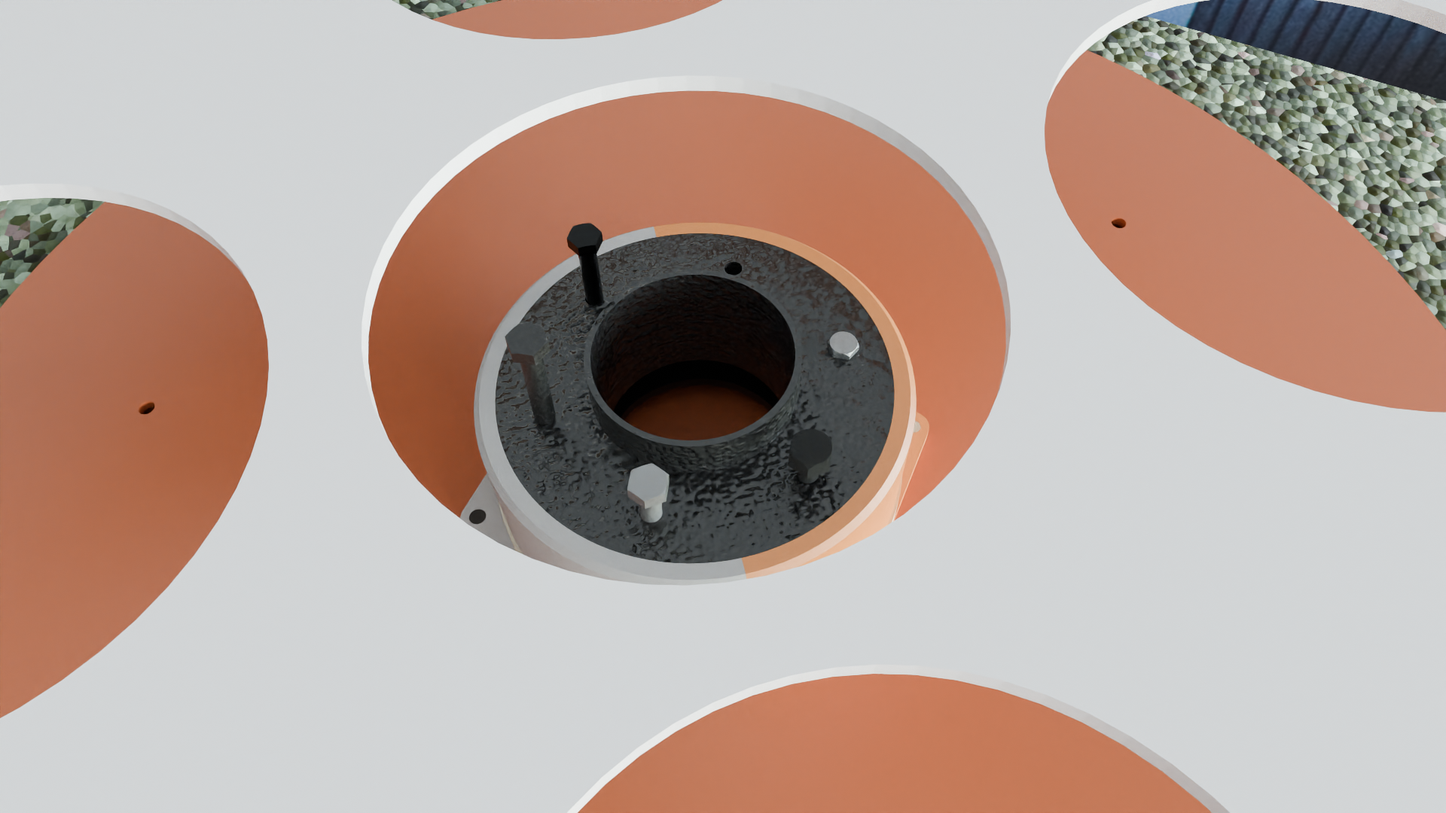bolt: (789, 429, 833, 470), (627, 463, 669, 501), (505, 323, 548, 356), (567, 223, 602, 248), (828, 331, 859, 357)
